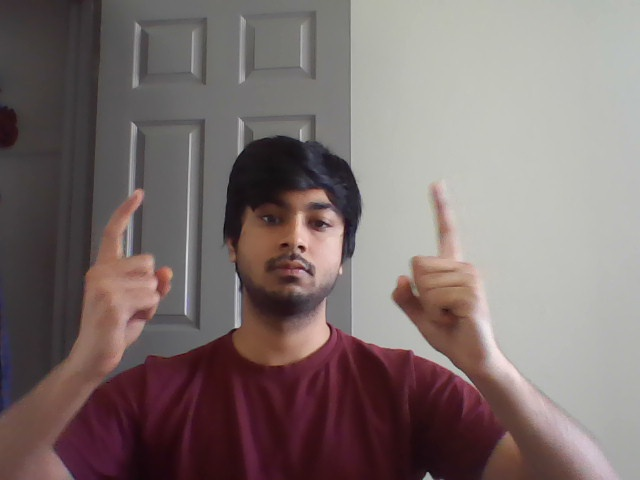one: (388, 175, 508, 342), (78, 182, 175, 351)
